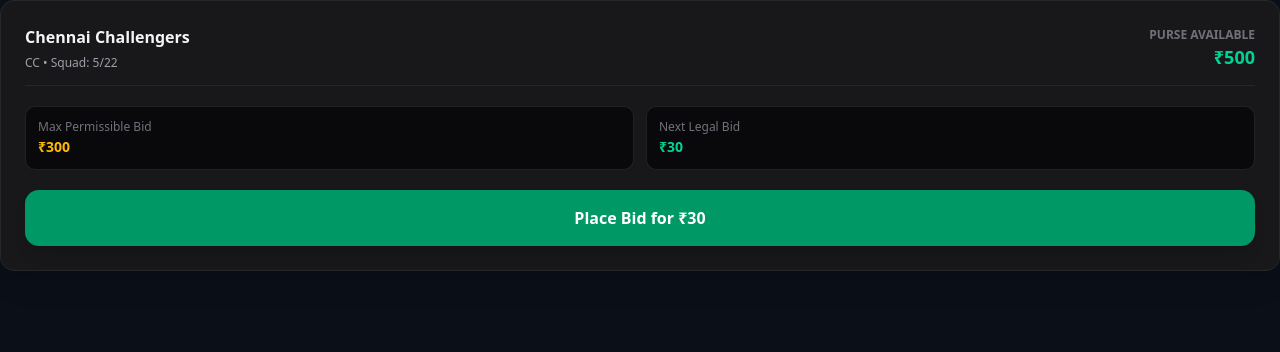
3. Initiating Browser vs Other Browsers — Admin, Player Queue, Franchise & Public /live Flows › Franchise Bid applies optimistic bid immediately, completes without redundant router.refresh(), and never gets stuck in Submitting state
Later steps or results of the test are not shown.
Click Bid: enters pending state + applies optimistic bid (₹30)
What coordinates should you click on to do the following:
click the button "Place Bid for ₹30"
I would click on:
 (640, 218)
Its box is [25,190,1255,246].
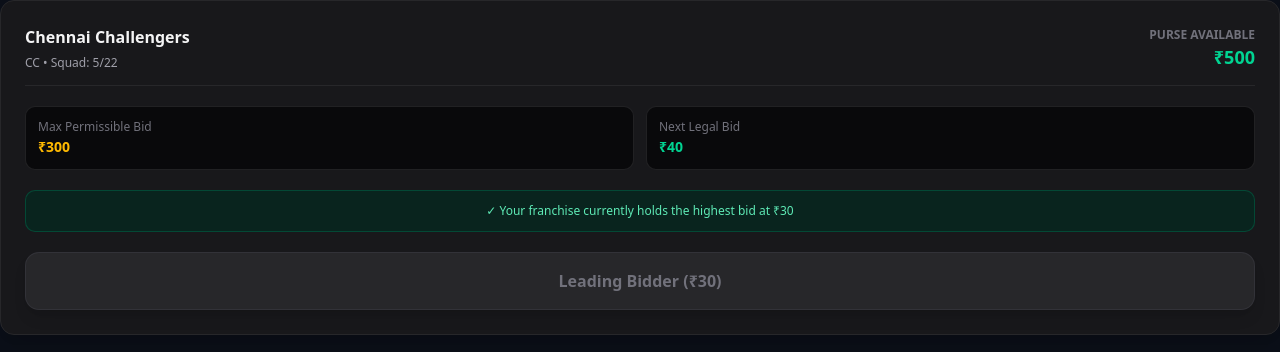
Result: the text "✓ Your franchise currently holds the highest bid at ₹30" is shown at [25,190,1255,232]
Result: the text "Leading Bidder (₹30)" is shown at [558,269,722,293]
